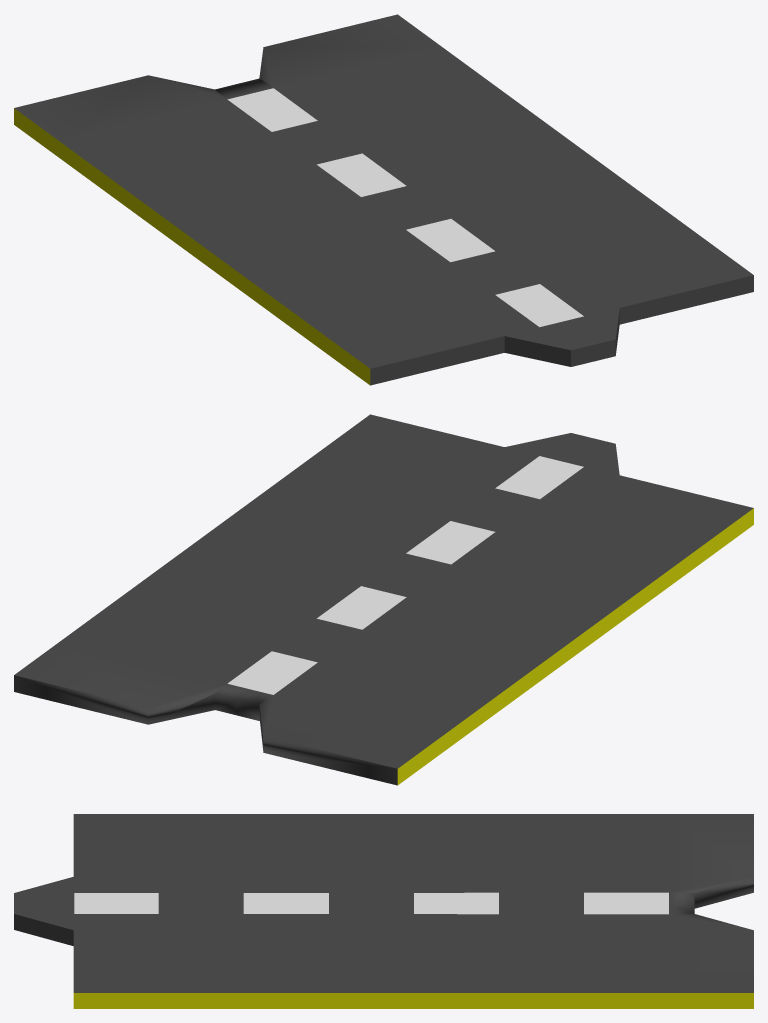
Rendered from Single Track Piece.fbx.
3 views of the same model, one above another, from view 1: azimuth 30°, elevation 25°; view 2: azimuth 150°, elevation 25°; view 3: azimuth 270°, elevation 25° (orthographic). The views are drawn at different scales.
Visible parts, largest first — view 1: straight_piece19; view 2: straight_piece19; view 3: straight_piece19.
Part boxes in pixels (left/top/right/bottom): straight_piece19: left=14, top=14, right=753, bottom=385; straight_piece19: left=14, top=414, right=753, bottom=785; straight_piece19: left=14, top=814, right=753, bottom=1008.
Size of the model in its own units: 8.53 by 0.3557 by 14.91.
